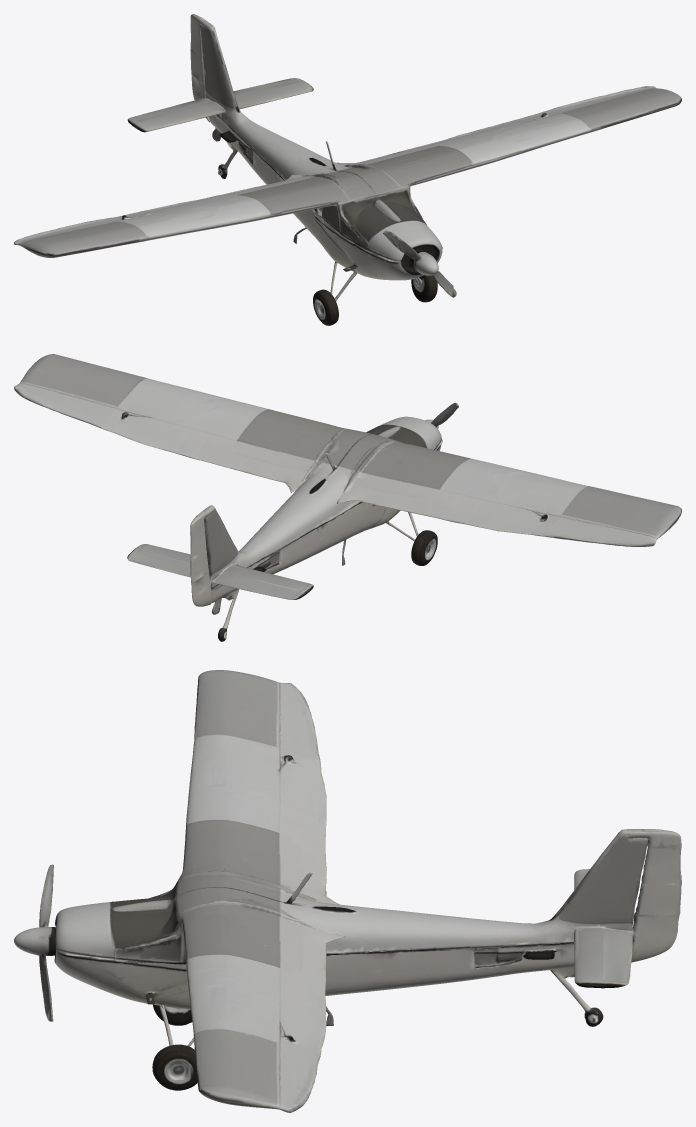
3 views of the same model, one above another, from view 1: azimuth 30°, elevation 25°; view 2: azimuth 150°, elevation 25°; view 3: azimuth 270°, elevation 25° (orthographic). The views are drawn at different scales.
Parts seen in each view (by area): view 1: tripo_part_2, tripo_part_5, tripo_part_7, tripo_part_16, tripo_part_1, tripo_part_0, tripo_part_10, tripo_part_9, tripo_part_6, tripo_part_11, tripo_part_26, tripo_part_12 (+13 smaller); view 2: tripo_part_2, tripo_part_1, tripo_part_0, tripo_part_6, tripo_part_5, tripo_part_10, tripo_part_11, tripo_part_9, tripo_part_12, tripo_part_14, tripo_part_24, tripo_part_4 (+12 smaller); view 3: tripo_part_2, tripo_part_1, tripo_part_5, tripo_part_0, tripo_part_24, tripo_part_11, tripo_part_25, tripo_part_6, tripo_part_7, tripo_part_10, tripo_part_9, tripo_part_16 (+15 smaller).
Boxes of the visible parts, x1,y1,x2,y2 form: tripo_part_2: (242, 141, 411, 215); tripo_part_5: (127, 24, 313, 136); tripo_part_7: (366, 219, 442, 280); tripo_part_16: (337, 183, 426, 243); tripo_part_1: (102, 186, 283, 227); tripo_part_0: (403, 111, 556, 171); tripo_part_10: (353, 153, 465, 185); tripo_part_9: (118, 207, 220, 240); tripo_part_6: (14, 219, 114, 257); tripo_part_11: (239, 123, 320, 179); tripo_part_26: (496, 122, 589, 154); tripo_part_12: (557, 99, 637, 133); tripo_part_2: (231, 428, 459, 521); tripo_part_1: (400, 456, 557, 536); tripo_part_0: (102, 397, 278, 468); tripo_part_6: (544, 496, 681, 546); tripo_part_5: (127, 505, 313, 599); tripo_part_10: (268, 411, 344, 480); tripo_part_11: (241, 495, 328, 559); tripo_part_9: (494, 470, 588, 517); tripo_part_12: (66, 365, 148, 410); tripo_part_14: (559, 486, 634, 527); tripo_part_24: (211, 522, 328, 602); tripo_part_4: (14, 354, 85, 409); tripo_part_2: (178, 830, 369, 977); tripo_part_1: (185, 751, 326, 864); tripo_part_5: (516, 829, 648, 988); tripo_part_0: (185, 942, 326, 1055); tripo_part_24: (364, 943, 574, 991); tripo_part_11: (362, 907, 519, 953); tripo_part_25: (628, 829, 681, 962); tripo_part_6: (196, 670, 320, 760); tripo_part_7: (54, 901, 118, 995); tripo_part_10: (182, 901, 316, 955); tripo_part_9: (189, 734, 282, 793); tripo_part_16: (110, 872, 184, 950).
Size of the model in its own units: 1 by 0.2486 by 0.6615.
1 material, 1 textured.
